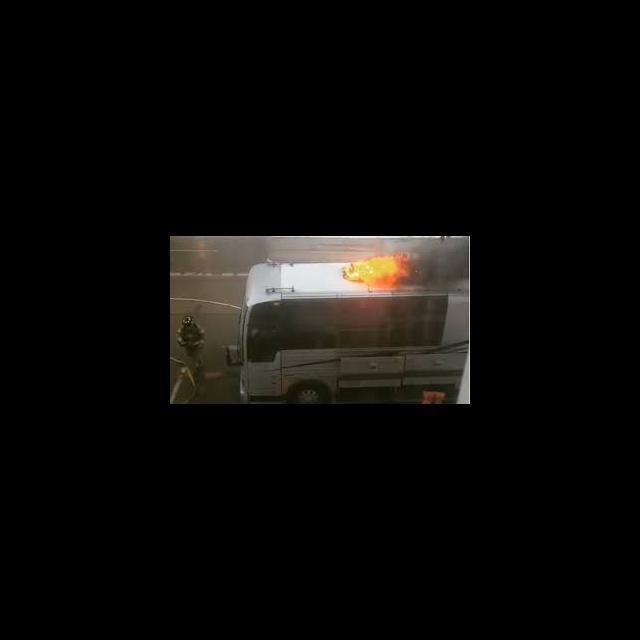Fire: (341, 250, 408, 288)
Smoke: (412, 238, 470, 286)
